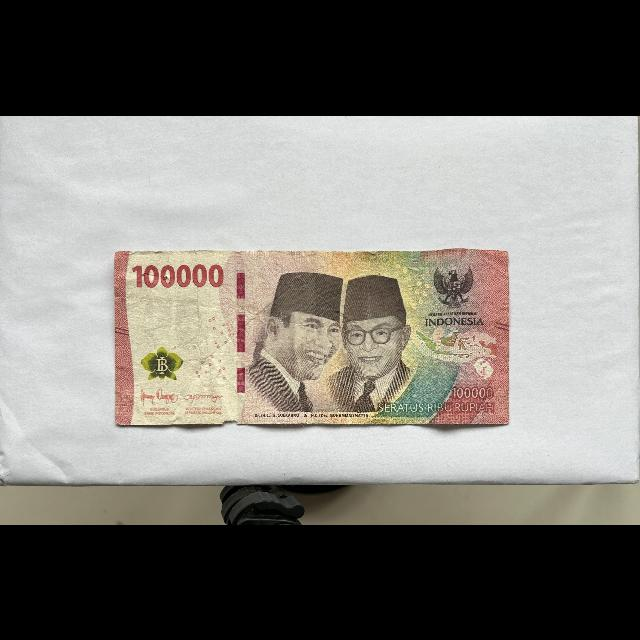Palsu-100k: (113, 246, 513, 426)
Tinta-Palsu-100k: (140, 345, 184, 380)
